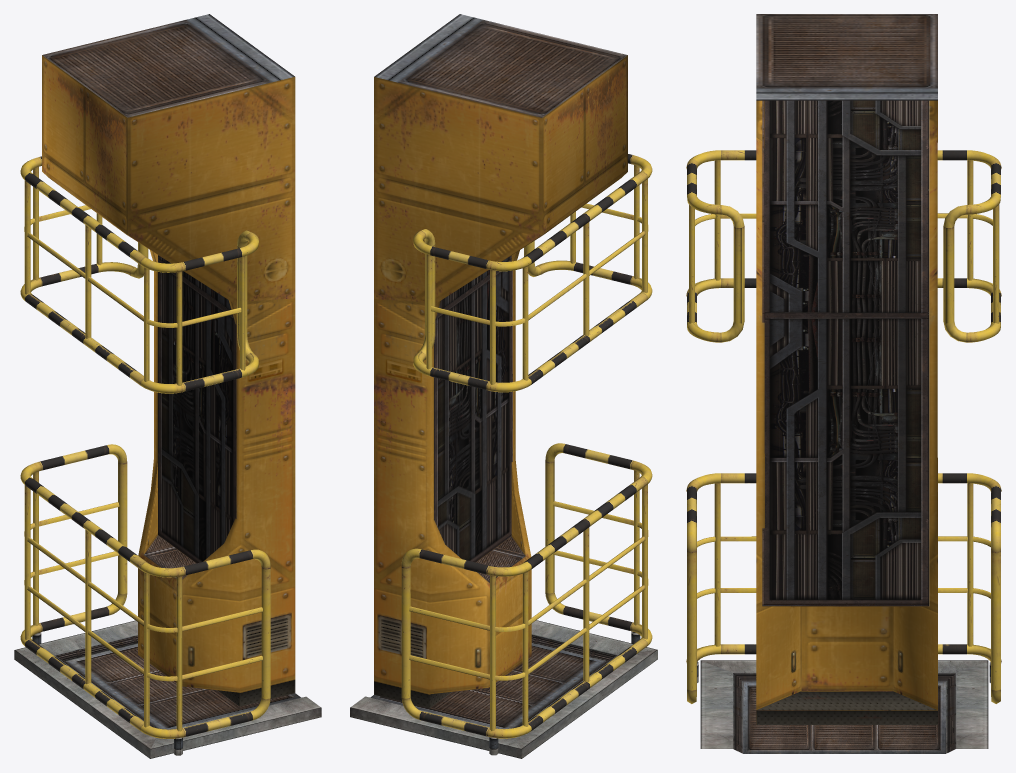
Rendered from ARC_Pilar_Pipes.FBX.
3 renders of one model, left to right at view 1: azimuth 30°, elevation 25°; view 2: azimuth 150°, elevation 25°; view 3: azimuth 270°, elevation 25°, orthographic. The views are drawn at different scales.
Visible parts, largest first — view 1: ARC_Pilar_Pipes; view 2: ARC_Pilar_Pipes; view 3: ARC_Pilar_Pipes.
Part boxes in pixels (box(x1,y1,x2,y2)): ARC_Pilar_Pipes: box(14, 14, 321, 758); ARC_Pilar_Pipes: box(350, 14, 657, 758); ARC_Pilar_Pipes: box(686, 14, 1001, 753).
Bounding box in the file's own units: 116 × 400 × 174.
Materials: 1 (1 with a texture image).
